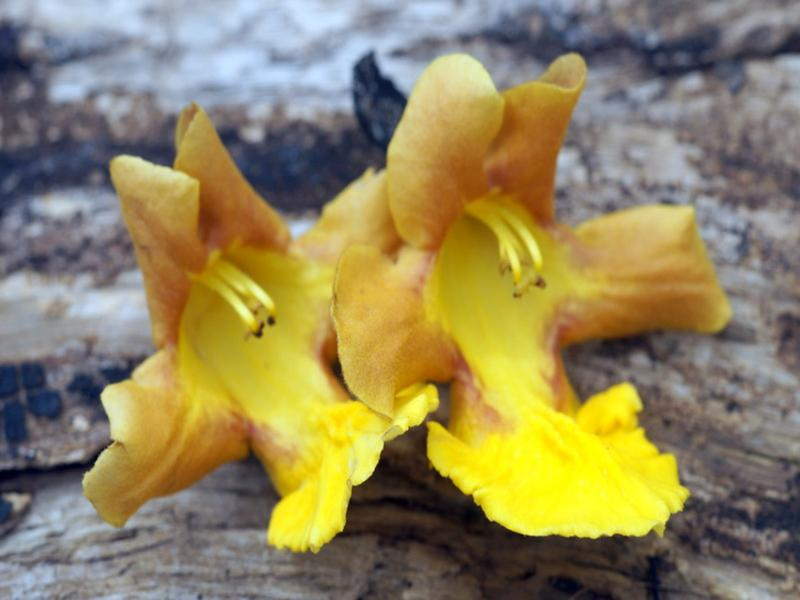flowers: (70, 50, 740, 562)
